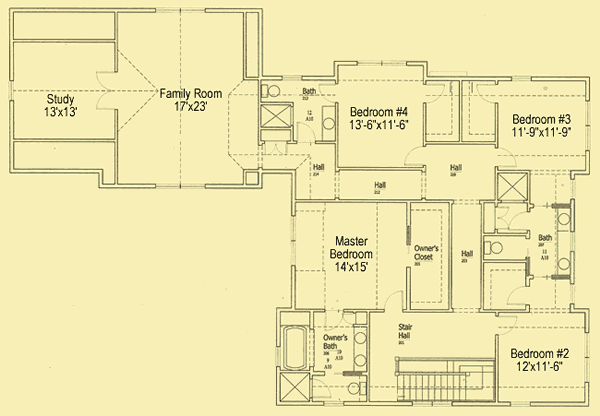door: (94, 67, 121, 113), (323, 307, 351, 332), (423, 79, 448, 106), (504, 284, 533, 307), (493, 146, 519, 171), (474, 81, 501, 105), (381, 290, 408, 314), (494, 313, 521, 337), (315, 82, 340, 106), (293, 120, 318, 144), (402, 143, 428, 166), (494, 203, 512, 234), (309, 376, 332, 399), (262, 139, 290, 157)
large sink: (481, 236, 504, 262), (259, 80, 282, 101)
small sink: (352, 327, 370, 372), (321, 106, 337, 140), (556, 252, 573, 277), (557, 210, 572, 232)
stairs: (397, 357, 499, 406)
tub: (393, 355, 499, 406), (280, 323, 311, 373)
windows: (154, 6, 209, 18), (153, 181, 208, 193), (581, 330, 593, 385), (583, 97, 594, 155), (355, 58, 409, 69), (289, 212, 299, 266), (508, 72, 537, 85), (568, 176, 579, 202), (8, 77, 17, 103), (280, 73, 303, 83)
